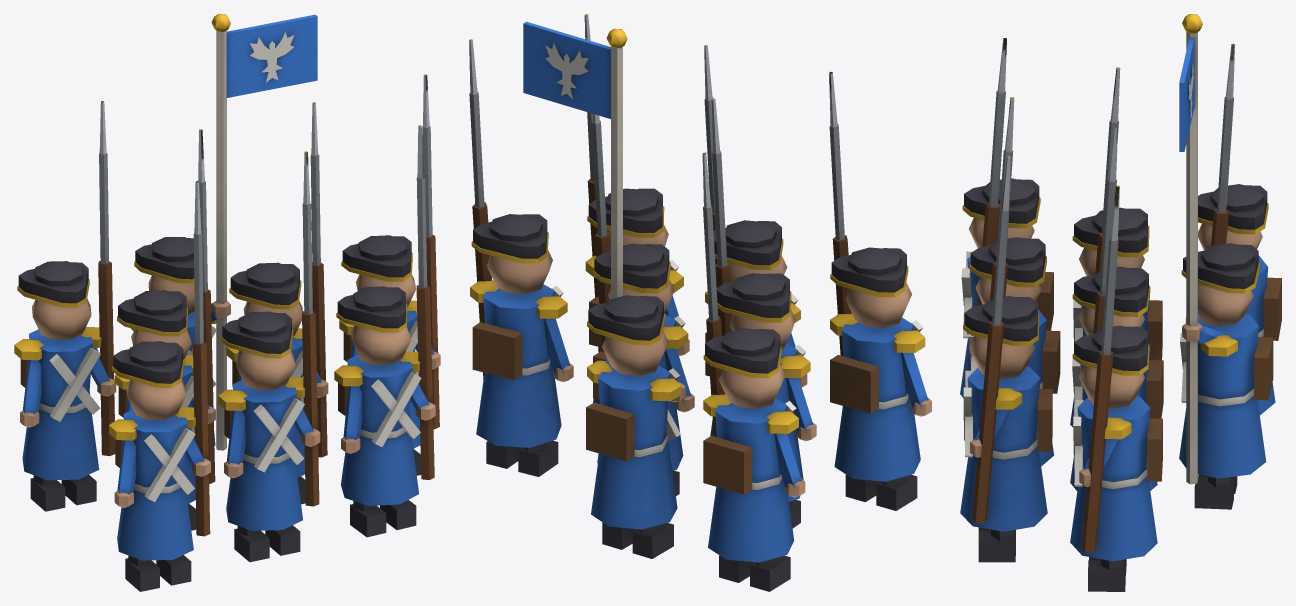
Rendered from squad_dl4_blue.glb.
3 renders of one model, left to right at view 1: azimuth 30°, elevation 25°; view 2: azimuth 150°, elevation 25°; view 3: azimuth 270°, elevation 25°, orthographic. The views are drawn at different scales.
Visible parts, largest first — view 1: squad_dl4_blue; view 2: squad_dl4_blue; view 3: squad_dl4_blue.
Part boxes in pixels (box(x1,y1,x2,y2)): squad_dl4_blue: box(14, 14, 440, 591); squad_dl4_blue: box(469, 14, 931, 591); squad_dl4_blue: box(960, 14, 1281, 591).
Size of the model in its own units: 0.657 by 0.7866 by 0.4609.
1 material, 1 textured.
